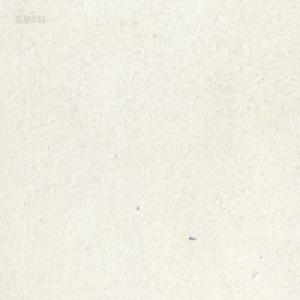Nail: (188, 235, 196, 240)
